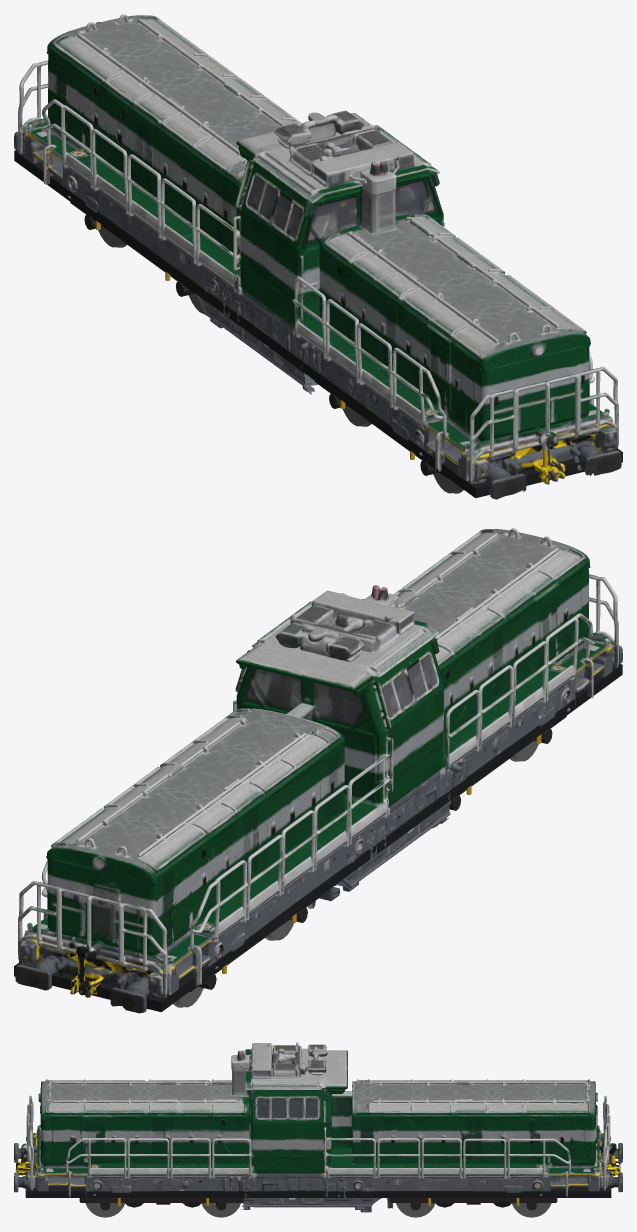
3 views of the same model, one above another, from view 1: azimuth 30°, elevation 25°; view 2: azimuth 150°, elevation 25°; view 3: azimuth 270°, elevation 25° (orthographic). The views are drawn at different scales.
Parts seen in each view (by area): view 1: dr18_kori, dr18_frame; view 2: dr18_kori, dr18_frame; view 3: dr18_kori, dr18_frame, Bogie_R_side1, Bogie_F_side1, Wheel_F1_wR, Wheel_R2_wR, Wheel_F2_wR, Wheel_R1_wR.
Boxes of the visible parts, <box> form: dr18_kori: <box>14,14,621,499</box>; dr18_frame: <box>14,130,622,498</box>; dr18_kori: <box>15,528,622,1013</box>; dr18_frame: <box>14,648,622,1012</box>; dr18_kori: <box>14,1042,622,1212</box>; dr18_frame: <box>25,1157,611,1197</box>; Bogie_R_side1: <box>390,1198,557,1202</box>; Bogie_F_side1: <box>79,1198,243,1202</box>; Wheel_F1_wR: <box>86,1203,124,1217</box>; Wheel_R2_wR: <box>512,1203,550,1217</box>; Wheel_F2_wR: <box>202,1203,240,1217</box>; Wheel_R1_wR: <box>396,1203,434,1217</box>.
Bounding box in the file's own units: 3 × 4.33 × 15.5.
6 materials, 1 textured.
